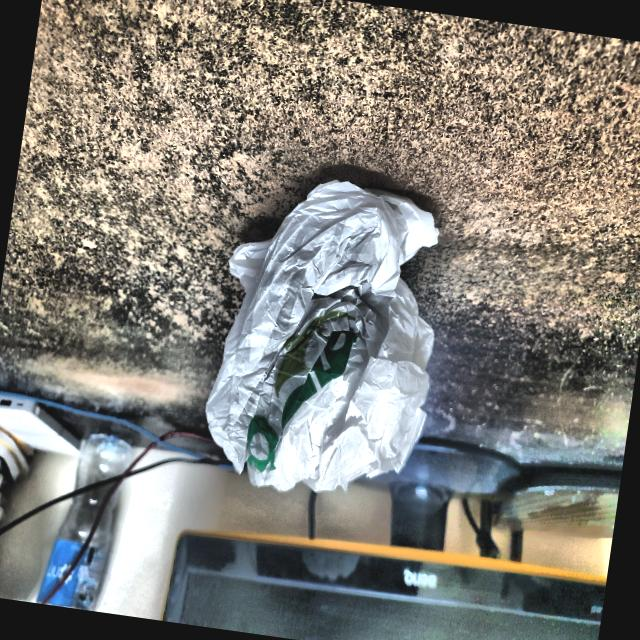plastic bag: (181, 149, 476, 522)
